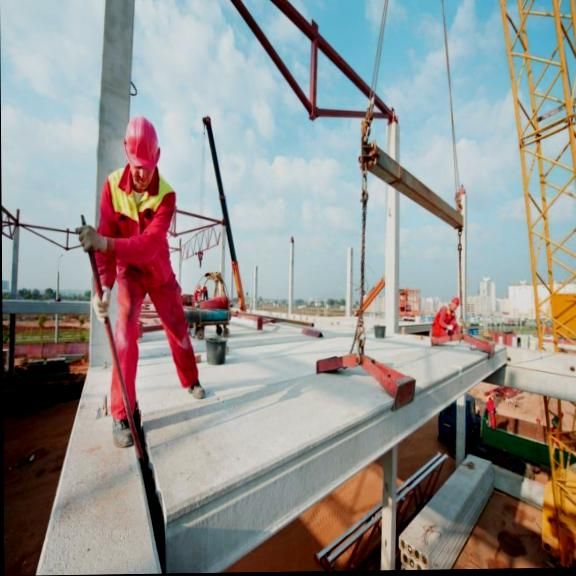safety_vest: (91, 178, 179, 305)
